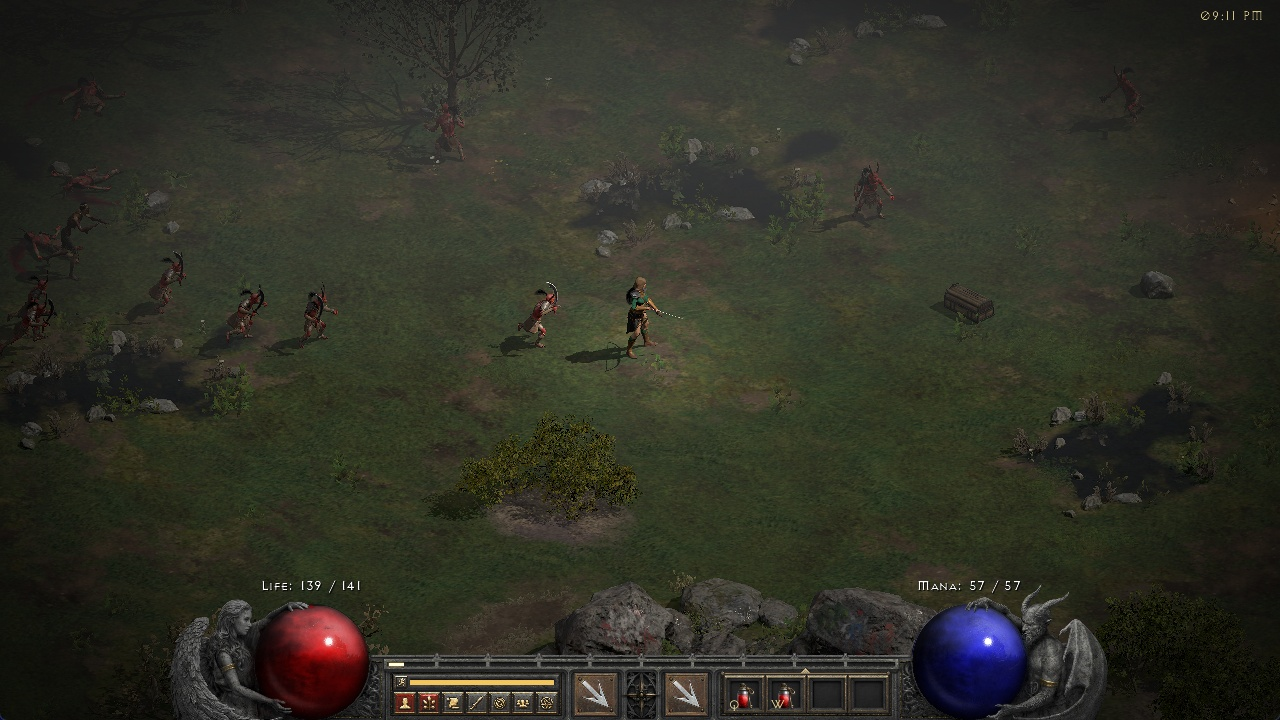fallen: (1095, 66, 1151, 131), (515, 281, 563, 354), (219, 289, 277, 344), (146, 247, 191, 314), (846, 163, 898, 220), (422, 98, 466, 165), (297, 285, 339, 345), (14, 304, 62, 344), (27, 272, 55, 295)
